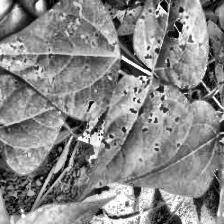ALS: (0, 0, 121, 124), (79, 75, 195, 201), (0, 76, 73, 163), (133, 0, 209, 77)
